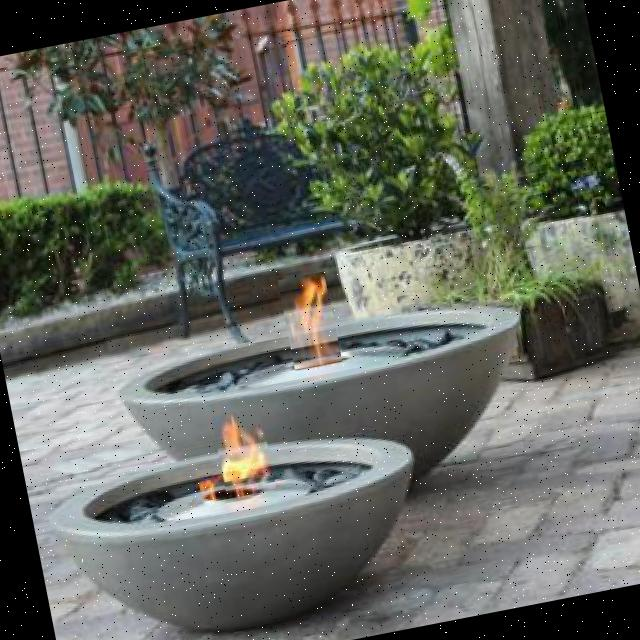fire: (278, 272, 342, 371), (212, 407, 276, 499)
